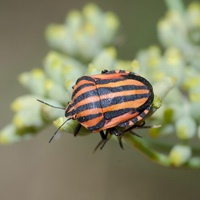insect: (37, 70, 159, 142)
